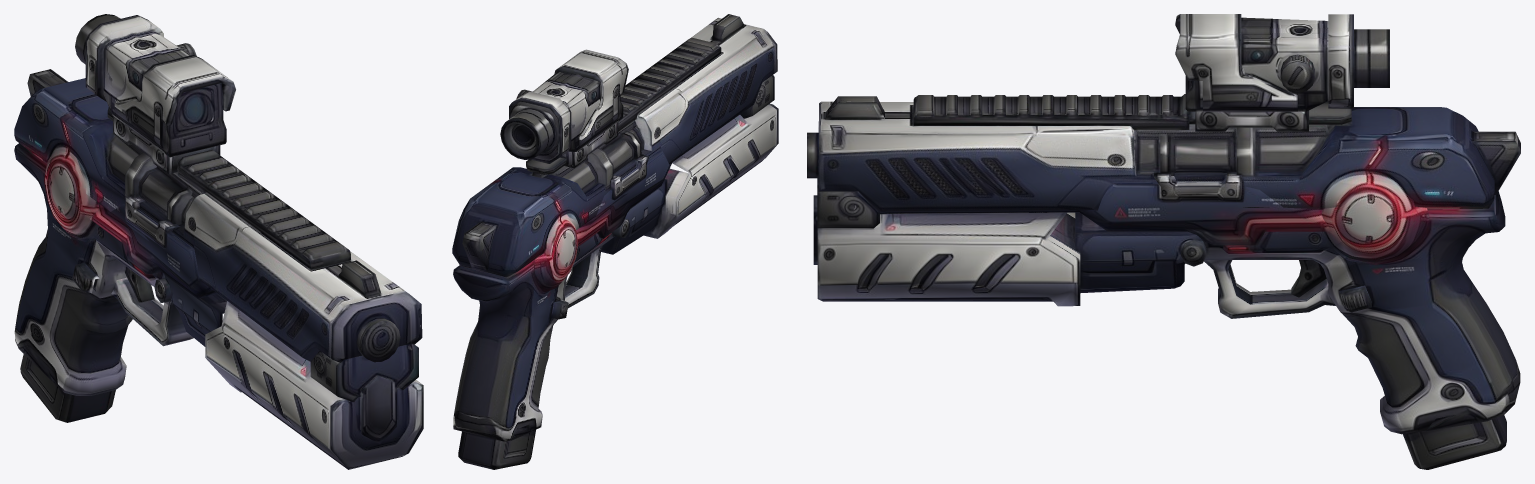
The picture shows the model from 3 angles, left to right: view 1: azimuth 30°, elevation 25°; view 2: azimuth 150°, elevation 25°; view 3: azimuth 270°, elevation 25°; orthographic projection. The views are drawn at different scales.
Parts seen in each view (by area): view 1: gun; view 2: gun; view 3: gun.
Boxes of the visible parts, x1,y1,x2,y2 form: gun: [14, 14, 423, 469]; gun: [452, 14, 778, 469]; gun: [807, 14, 1520, 469].
Size of the model in its own units: 0.1753 by 0.6753 by 0.9995.
Materials: 1 (1 with a texture image).
